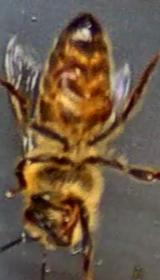varroa_mite: (96, 96, 117, 124)
